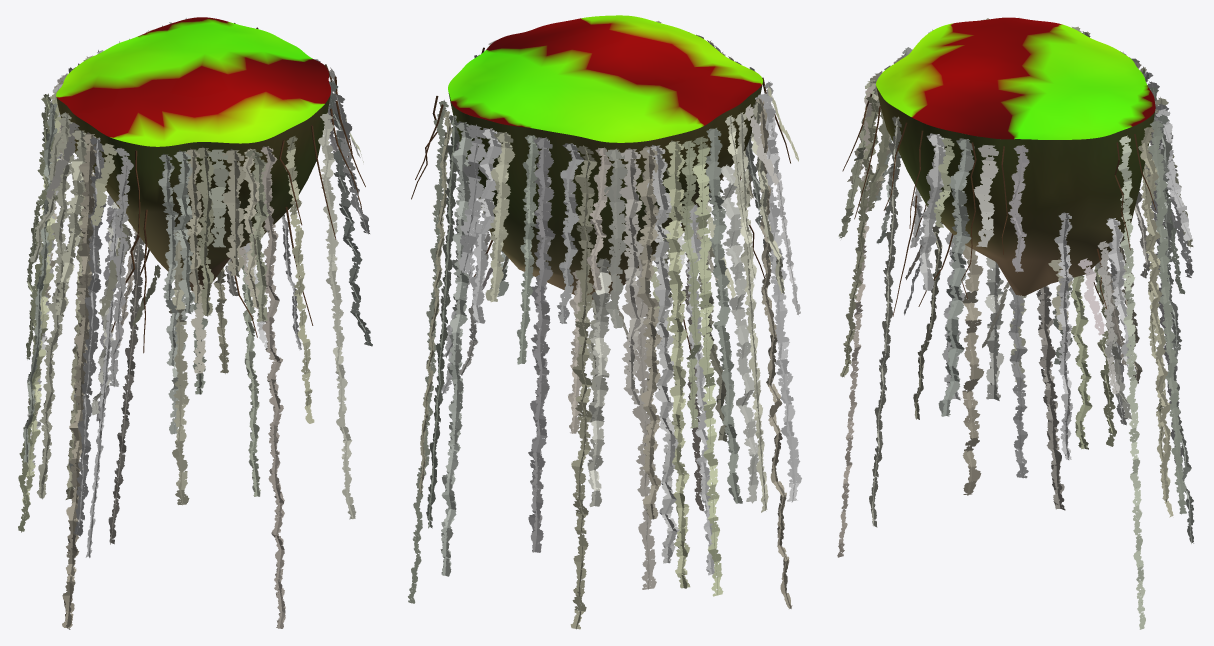
File: SM_H03_Floater01.fbx
3 views of the same model, side by side, from view 1: azimuth 30°, elevation 25°; view 2: azimuth 150°, elevation 25°; view 3: azimuth 270°, elevation 25° (orthographic). The views are drawn at different scales.
Parts seen in each view (by area): view 1: SM_H03_Floater01_Ivy, SM_H03_Floater01; view 2: SM_H03_Floater01_Ivy, SM_H03_Floater01; view 3: SM_H03_Floater01_Ivy, SM_H03_Floater01.
Boxes of the visible parts, <box> form: SM_H03_Floater01_Ivy: <box>18,18,372,629</box>; SM_H03_Floater01: <box>56,17,330,290</box>; SM_H03_Floater01_Ivy: <box>408,21,801,629</box>; SM_H03_Floater01: <box>448,15,762,299</box>; SM_H03_Floater01_Ivy: <box>837,17,1194,629</box>; SM_H03_Floater01: <box>876,17,1155,296</box>.
Bounding box in the file's own units: 19.8 × 30.35 × 20.07.
